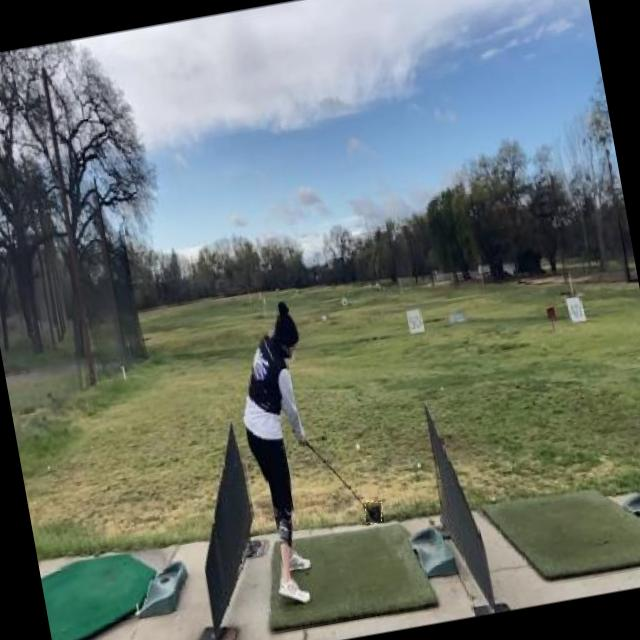club head: (362, 499, 384, 525)
